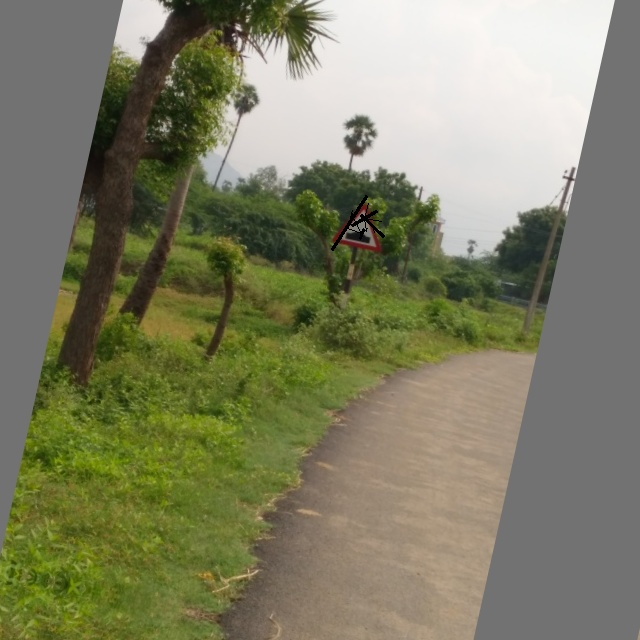Hump_or_Rough_Road: (325, 193, 393, 258)
